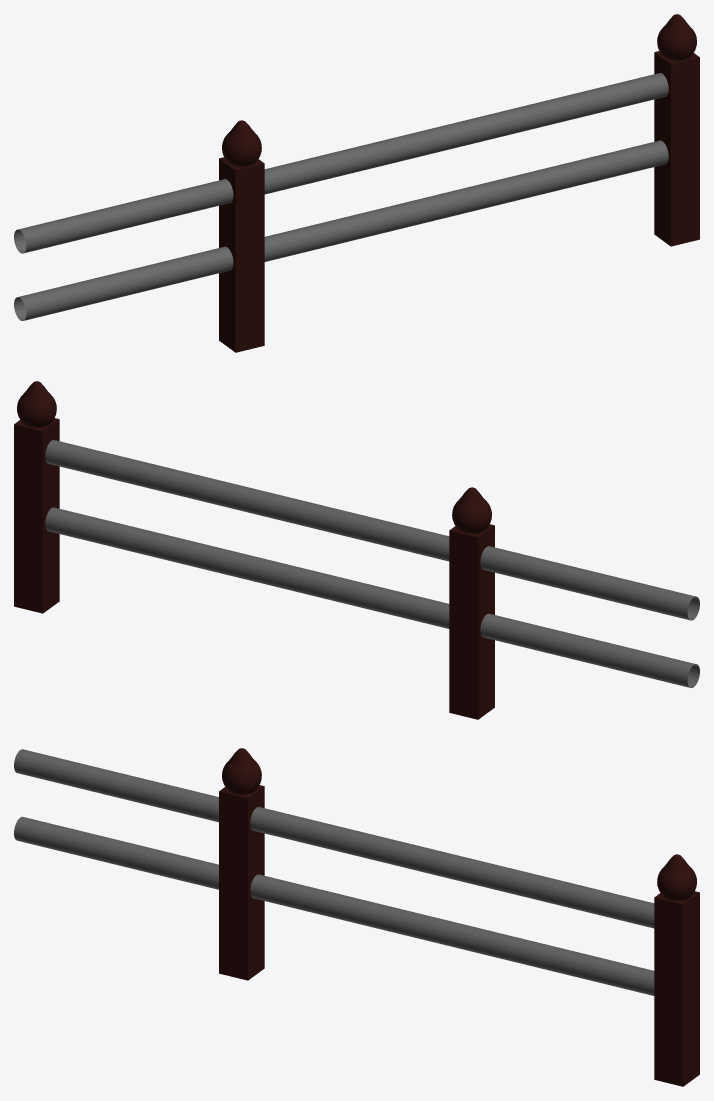
File: HalfRailing.fbx
The picture shows the model from 3 angles, top to bottom: view 1: azimuth 30°, elevation 25°; view 2: azimuth 150°, elevation 25°; view 3: azimuth 330°, elevation 25°; orthographic projection.
Visible parts, largest first — view 1: Railing.001; view 2: Railing.001; view 3: Railing.001.
Boxes of the visible parts, bbox=[...] form: Railing.001: bbox=[14, 14, 699, 352]; Railing.001: bbox=[14, 381, 699, 719]; Railing.001: bbox=[14, 748, 699, 1086].
Size of the model in its own units: 465 by 147 by 23.92.
